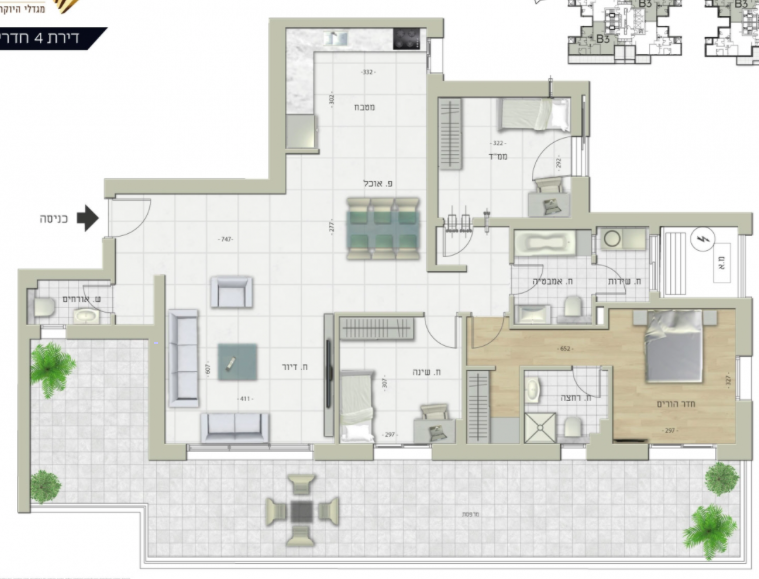door: (119, 195, 156, 237), (421, 317, 458, 359), (470, 317, 507, 359), (597, 260, 630, 297), (514, 258, 547, 295), (438, 228, 478, 258), (568, 370, 604, 400), (80, 283, 109, 315)
wall: (105, 177, 285, 194), (427, 80, 585, 99), (269, 18, 285, 195), (152, 278, 165, 460), (589, 212, 752, 225), (266, 17, 445, 28), (430, 445, 560, 459), (66, 325, 162, 340), (585, 447, 651, 461), (313, 446, 373, 461), (147, 445, 186, 461)
window: (187, 444, 313, 462), (648, 444, 717, 460), (373, 444, 431, 460), (646, 233, 660, 291), (735, 355, 751, 400), (426, 37, 444, 75), (40, 325, 66, 339)
